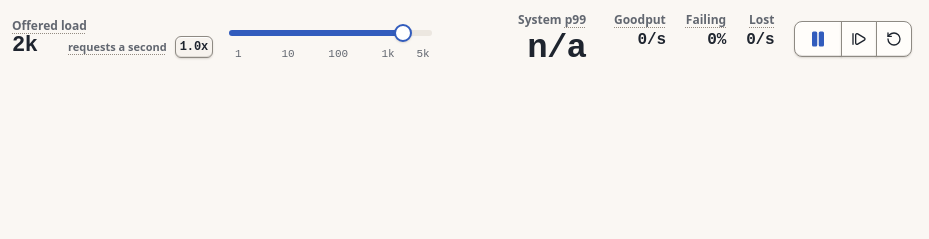
Test: load as a multiple › cannot make 1x the 1x again, or go past the slider
Click the button "1.0x".
click(194, 47)  # box [175, 36, 213, 58]
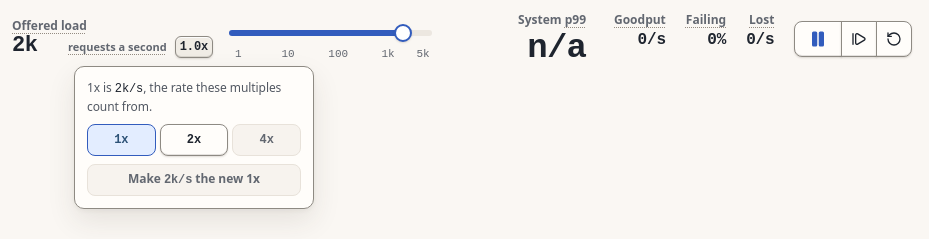
Result: the button "Make 2k/s the new 1x" is disabled at [87, 164, 301, 196]
Result: the button "4x" is disabled at [232, 124, 301, 156]
